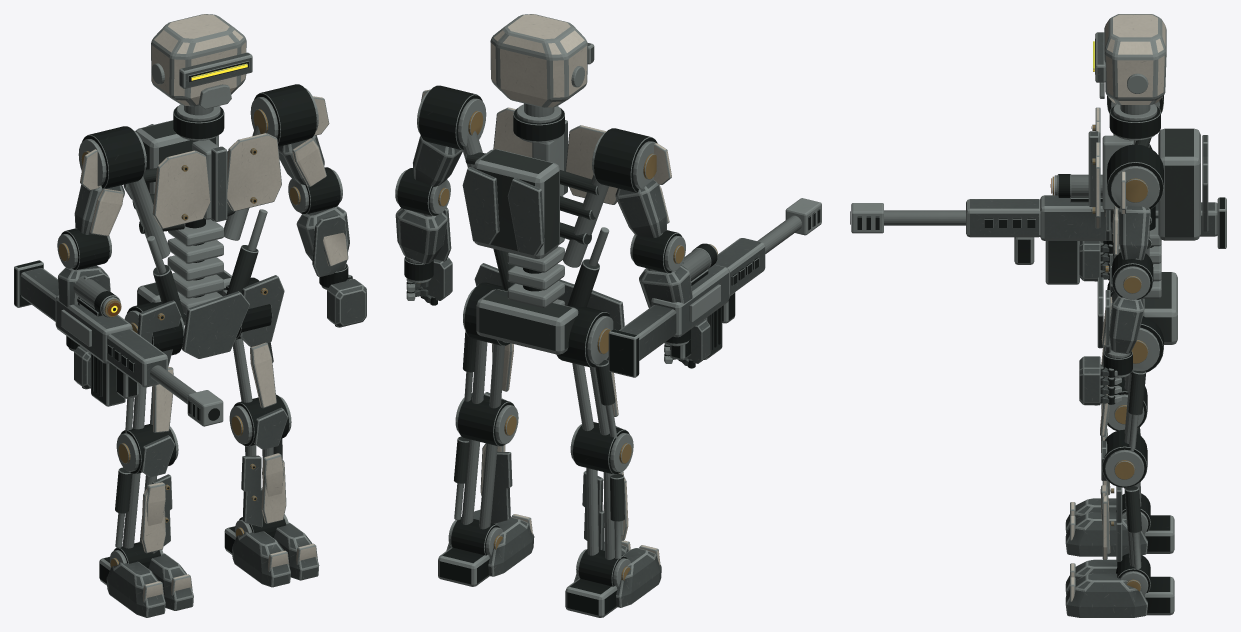
Rendered from ranged-t3-sentinel.glb.
The picture shows the model from 3 angles, left to right: view 1: azimuth 30°, elevation 25°; view 2: azimuth 150°, elevation 25°; view 3: azimuth 270°, elevation 25°; orthographic projection.
Visible parts, largest first — view 1: pelvis__metal, chest__clay, head__clay, chest__metal, weaponR__metal, pelvis__clay, weaponR__clay, ankleR__clay, ankleL__clay, kneeL__clay, kneeR__metal, shoulderL__metal (+18 smaller); view 2: pelvis__metal, chest__metal, chest__clay, head__clay, weaponR__metal, kneeL__metal, kneeR__metal, weaponR__clay, shoulderL__metal, shoulderR__metal, ankleL__metal, ankleR__metal (+16 smaller); view 3: chest__metal, weaponR__metal, weaponR__clay, head__clay, pelvis__metal, ankleL__clay, kneeL__metal, shoulderL__metal, ankleR__clay, elbowL__clay, shoulderL__clay, ankleL__metal (+11 smaller).
Part boxes in pixels (x1,y1,x2,y2): pelvis__metal: (124,209,272,355); chest__clay: (123,124,281,228); head__clay: (151,14,252,106); chest__metal: (126,104,260,258); weaponR__metal: (14,260,223,426); pelvis__clay: (137,275,284,366); weaponR__clay: (20,268,167,387); ankleR__clay: (106,553,193,617); ankleL__clay: (232,522,319,587); kneeL__clay: (241,407,287,527); kneeR__metal: (115,424,178,548); shoulderL__metal: (250,84,318,146); pelvis__metal: (463,227,613,367); chest__metal: (462,104,608,267); chest__clay: (462,107,617,255); head__clay: (490,14,594,107); weaponR__metal: (608,198,821,377); kneeL__metal: (454,393,518,529); kneeR__metal: (570,422,633,559); weaponR__clay: (619,238,765,360); shoulderL__metal: (417,85,486,150); shoulderR__metal: (592,128,662,234); ankleL__metal: (438,517,503,586); ankleR__metal: (565,549,630,617); chest__metal: (1091,104,1200,256); weaponR__metal: (850,174,1226,284); weaponR__clay: (966,195,1217,240); head__clay: (1095,14,1166,104); pelvis__metal: (1104,206,1177,374); ankleL__clay: (1065,559,1147,617); kneeL__metal: (1102,429,1147,569); shoulderL__metal: (1107,144,1163,259); ankleR__clay: (1065,498,1147,556); elbowL__clay: (1101,290,1144,355); shoulderL__clay: (1113,171,1150,260); ankleL__metal: (1116,553,1174,615).
Size of the model in its own units: 2.33 by 4.27 by 2.65.
Materials: 12 (10 with a texture image).
